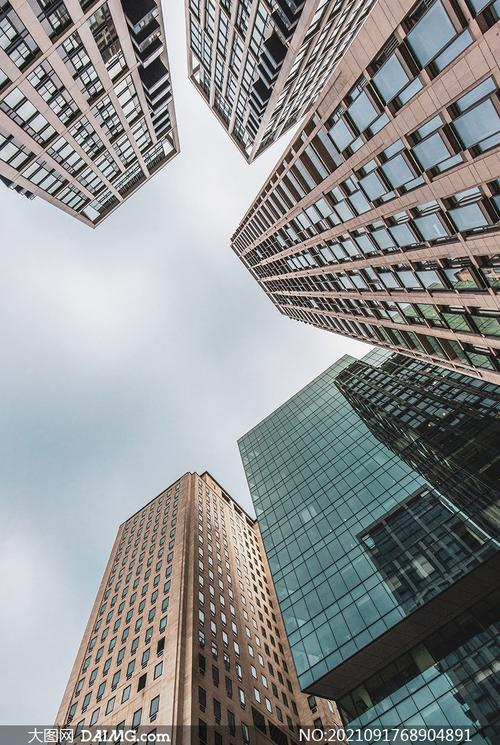buildings: (211, 54, 489, 365), (218, 370, 482, 696), (38, 485, 348, 743), (9, 27, 192, 225)
